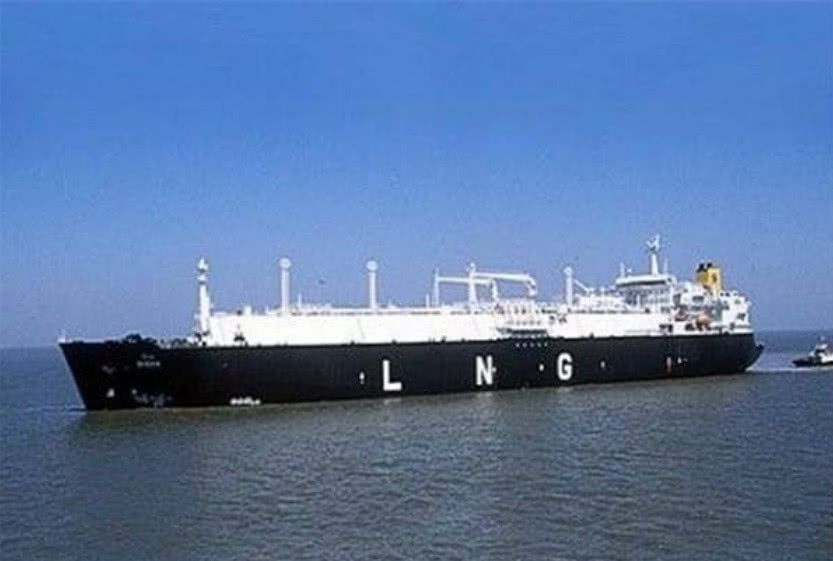Cargoship: (48, 224, 765, 421)
otherboat: (789, 335, 833, 370)
